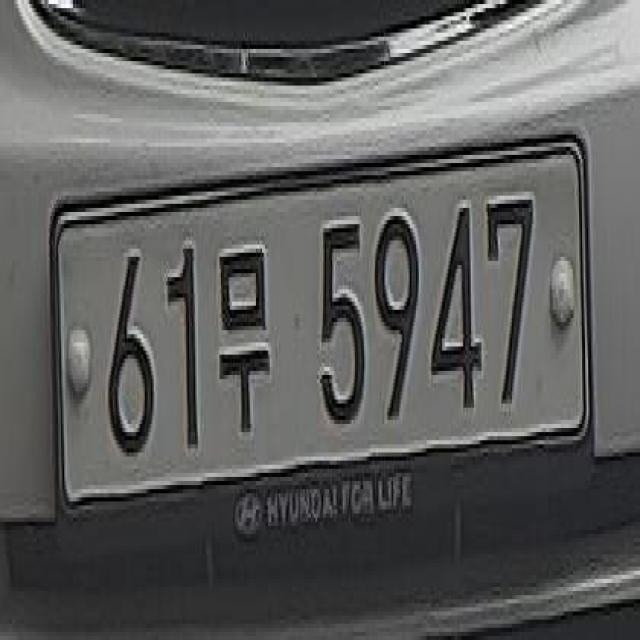1: (163, 236, 204, 461)
4: (428, 192, 486, 420)
5: (310, 203, 369, 440)
6: (105, 233, 156, 468)
7: (487, 178, 540, 428)
9: (372, 195, 422, 434)
license_plate: (36, 100, 600, 578)
mu: (212, 227, 274, 443)
